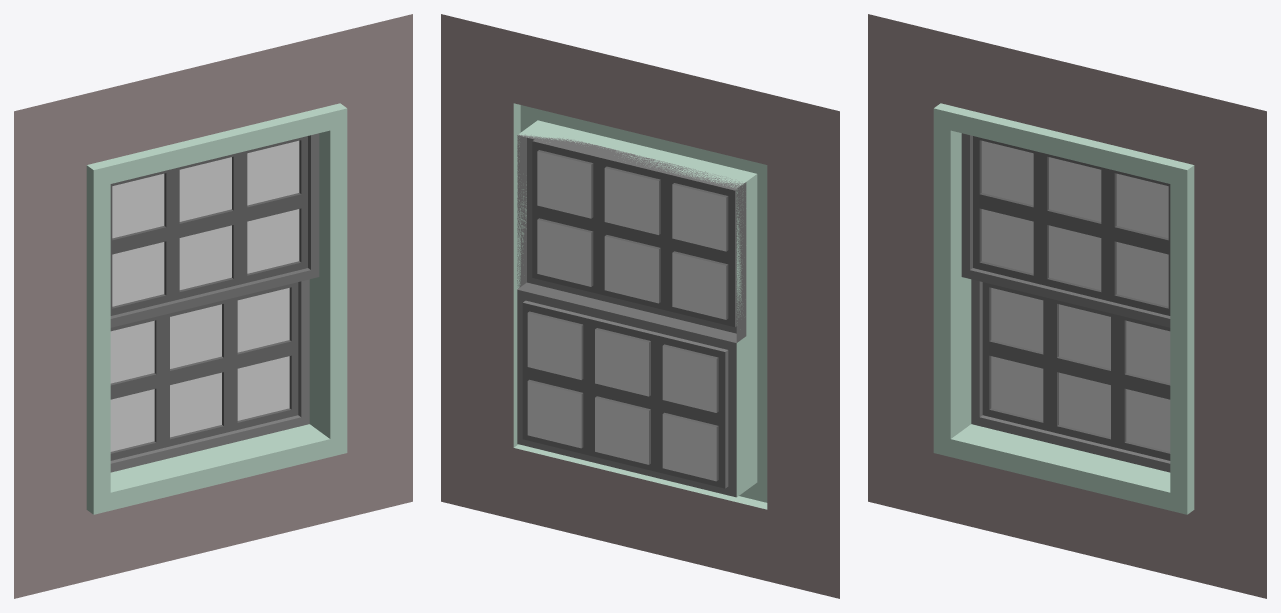
Rendered from SlidingWindow_PhantomPhotos_Giselle Monize.fbx.
The picture shows the model from 3 angles, left to right: view 1: azimuth 30°, elevation 25°; view 2: azimuth 150°, elevation 25°; view 3: azimuth 330°, elevation 25°; orthographic projection.
Parts seen in each view (by area): view 1: PR_Wall, PR_TopWindow, PR_BottomWindow; view 2: PR_Wall, PR_TopWindow, PR_BottomWindow; view 3: PR_Wall, PR_TopWindow, PR_BottomWindow.
Part boxes in pixels (x1,y1,x2,y2): PR_Wall: (14,14,412,598); PR_TopWindow: (110,133,319,327); PR_BottomWindow: (110,279,309,472); PR_Wall: (441,14,839,598); PR_TopWindow: (517,134,746,342); PR_BottomWindow: (517,289,736,497); PR_Wall: (868,14,1266,598); PR_TopWindow: (961,133,1170,327); PR_BottomWindow: (971,279,1170,472).
Bounding box in the file's own units: 155 × 181 × 17.11.
